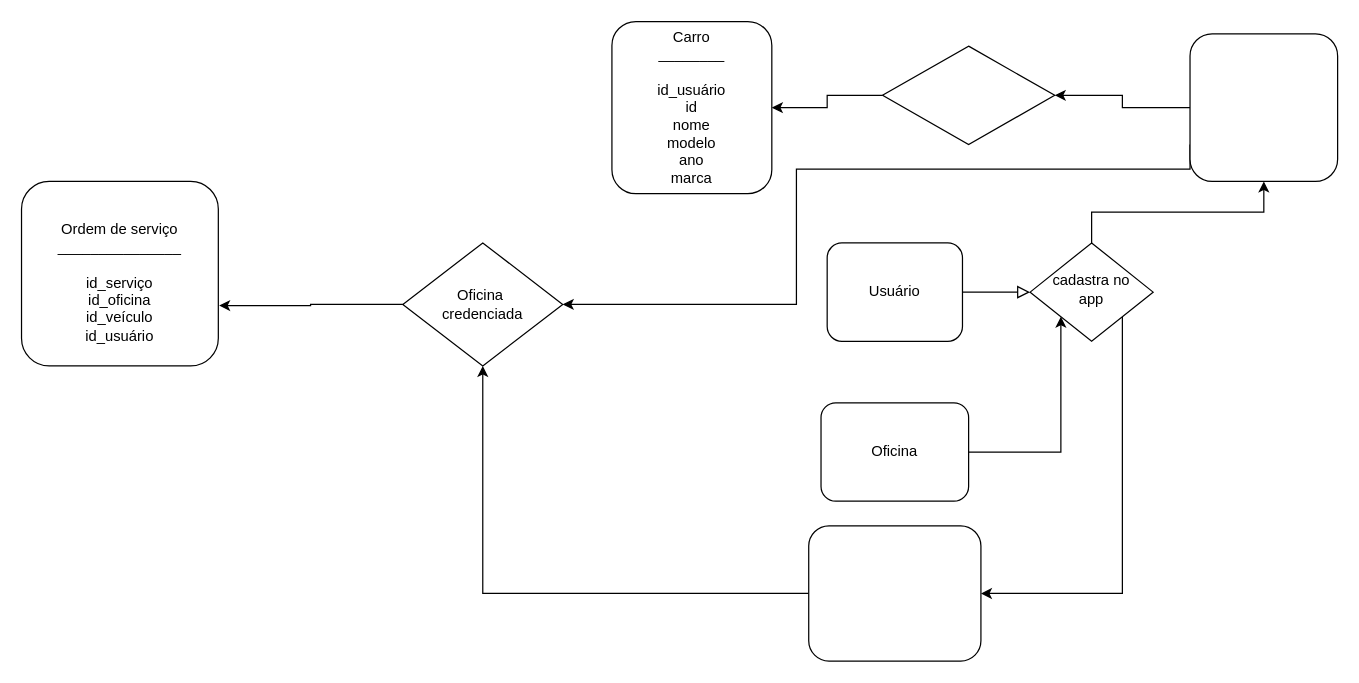
Some shapes in this 1359 by 683 pixel diagram are drawn without their labels. The shapes that lost their labels are listed below. From the top down, each one's box as (x1, y1, x2, y2) in pixels, then its label:
(881, 45, 1055, 145): Usuário cadastra veículo
(1189, 33, 1338, 181): Usuário __________ id nome e-mail senha
(807, 525, 981, 661): Oficina _________ id_oficina nome oficina
